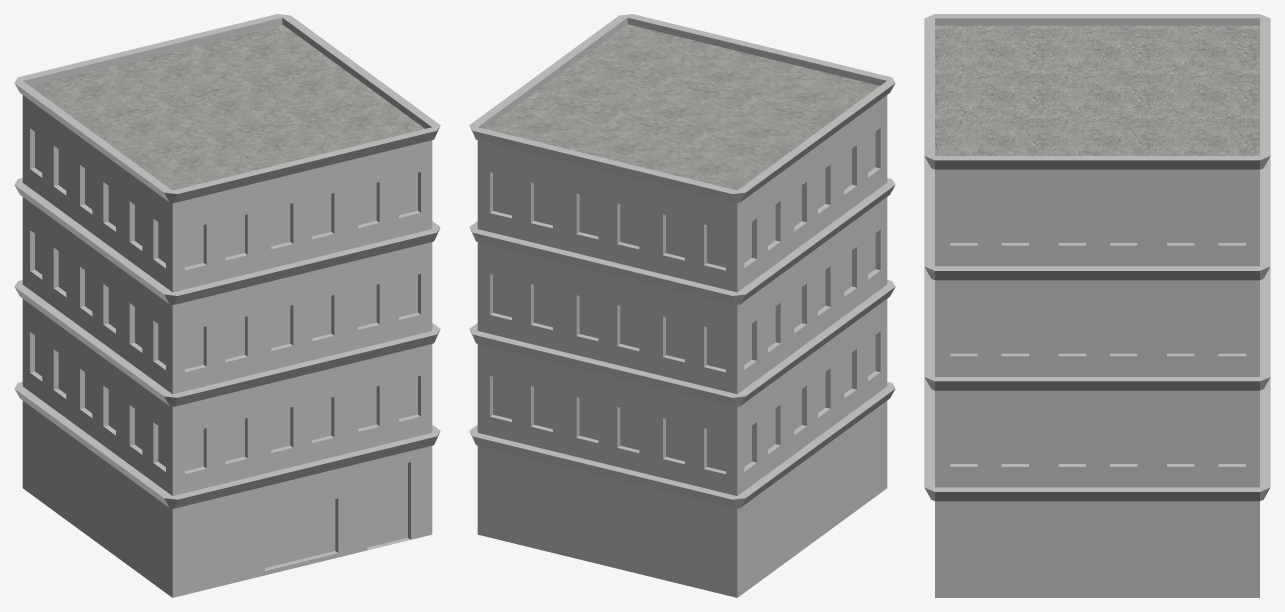
File: RV_Building_Type_C_03.fbx
3 views of the same model, side by side, from view 1: azimuth 30°, elevation 25°; view 2: azimuth 150°, elevation 25°; view 3: azimuth 270°, elevation 25° (orthographic). The views are drawn at different scales.
Parts seen in each view (by area): view 1: RV_Building_Type_C_03; view 2: RV_Building_Type_C_03; view 3: RV_Building_Type_C_03.
Boxes of the visible parts, box(x1,y1,x2,y2) form: RV_Building_Type_C_03: box(14, 14, 440, 597); RV_Building_Type_C_03: box(469, 14, 895, 597); RV_Building_Type_C_03: box(924, 14, 1270, 597).
Bounding box in the file's own units: 818 × 1152 × 818.
